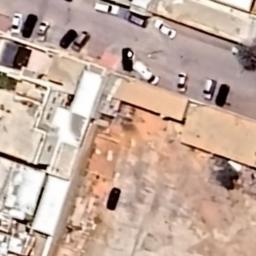SUV: (123, 10, 147, 28), (59, 29, 77, 49), (11, 12, 21, 34)
others: (132, 61, 160, 86)
sedan: (154, 18, 177, 40), (72, 30, 92, 53), (22, 14, 38, 38), (107, 187, 121, 211), (216, 84, 230, 107), (122, 47, 134, 72), (38, 20, 50, 44), (177, 72, 188, 92)
van: (94, 0, 120, 16), (203, 78, 216, 100)
